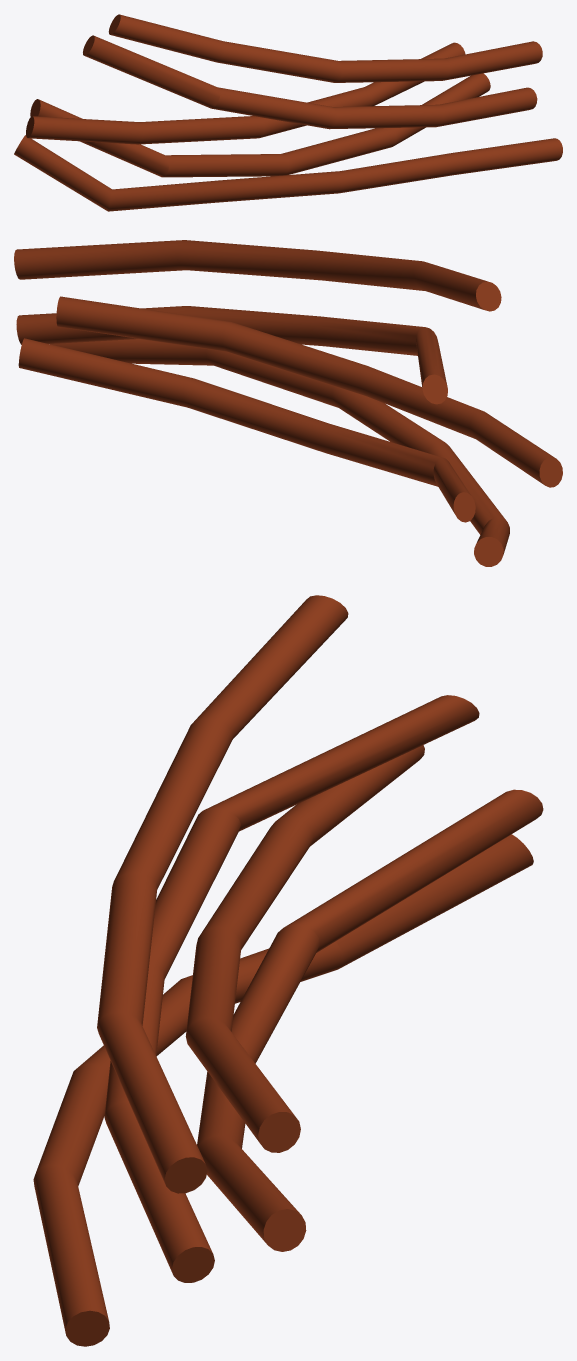
The model's file is cablecopperL.fbx.
3 renders of one model, top to bottom at view 1: azimuth 30°, elevation 25°; view 2: azimuth 150°, elevation 25°; view 3: azimuth 270°, elevation 25°, orthographic. The views are drawn at different scales.
Parts seen in each view (by area): view 1: cablecopperL; view 2: cablecopperL; view 3: cablecopperL.
Part boxes in pixels (x1=…): cablecopperL: x1=14, y1=14, x2=562, y2=211; cablecopperL: x1=14, y1=240, x2=562, y2=566; cablecopperL: x1=33, y1=595, x2=543, y2=1346.
Size of the model in its own units: 493 by 198 by 238.
